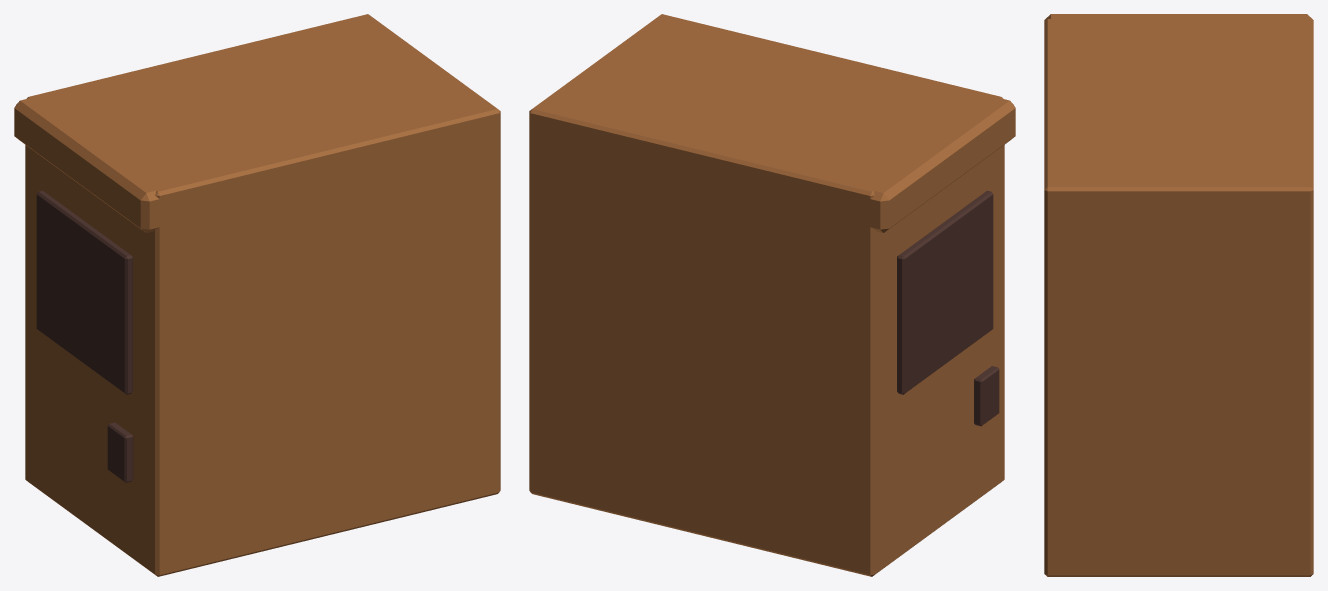
The model's file is pupitre_perimetre.glb.
3 renders of one model, left to right at view 1: azimuth 30°, elevation 25°; view 2: azimuth 150°, elevation 25°; view 3: azimuth 270°, elevation 25°, orthographic.
Visible parts, largest first — view 1: pupitre_perimetre; view 2: pupitre_perimetre; view 3: pupitre_perimetre.
Boxes of the visible parts, box(x1,y1,x2,y2) form: pupitre_perimetre: box(14, 14, 500, 576); pupitre_perimetre: box(529, 14, 1015, 576); pupitre_perimetre: box(1044, 14, 1313, 576).
Size of the model in its own units: 1.12 by 1.15 by 0.72.
Materials: 1 (1 with a texture image).
